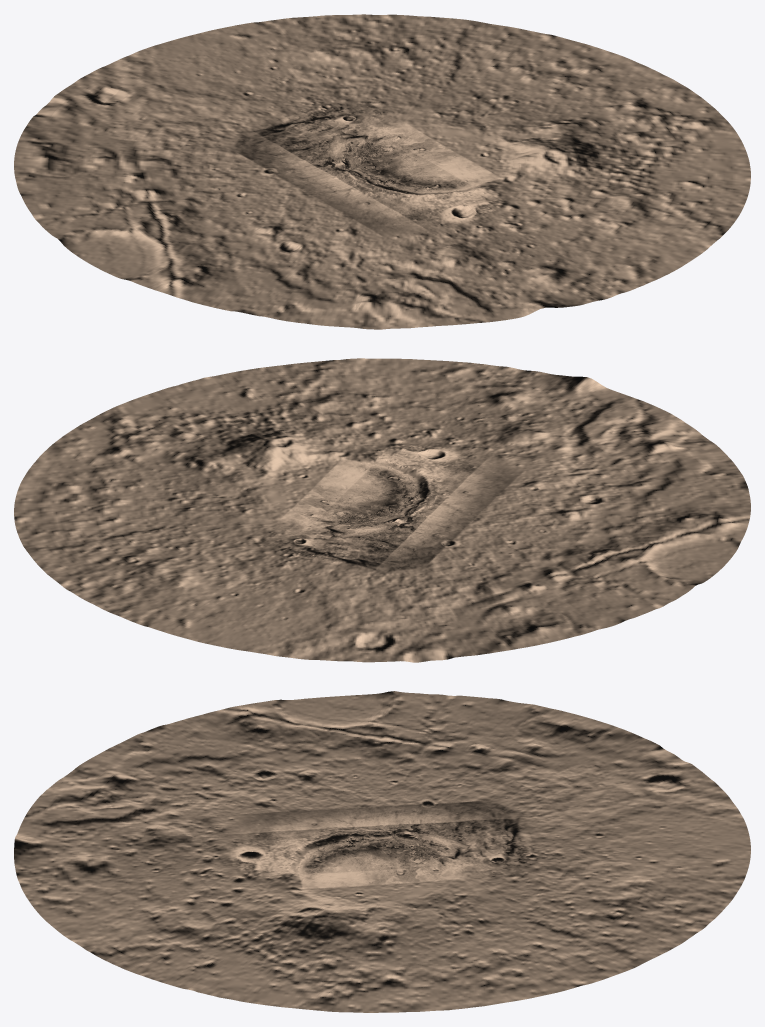
Rendered from jezero.glb.
3 views of the same model, one above another, from view 1: azimuth 30°, elevation 25°; view 2: azimuth 150°, elevation 25°; view 3: azimuth 270°, elevation 25° (orthographic).
Visible parts, largest first — view 1: Horizon; view 2: Horizon; view 3: Horizon.
Boxes of the visible parts, x1,y1,x2,y2 form: Horizon: [14, 14, 750, 329]; Horizon: [14, 358, 750, 662]; Horizon: [14, 691, 750, 1012].
Size of the model in its own units: 199971 by 4266 by 199971.
2 materials, 2 textured.
